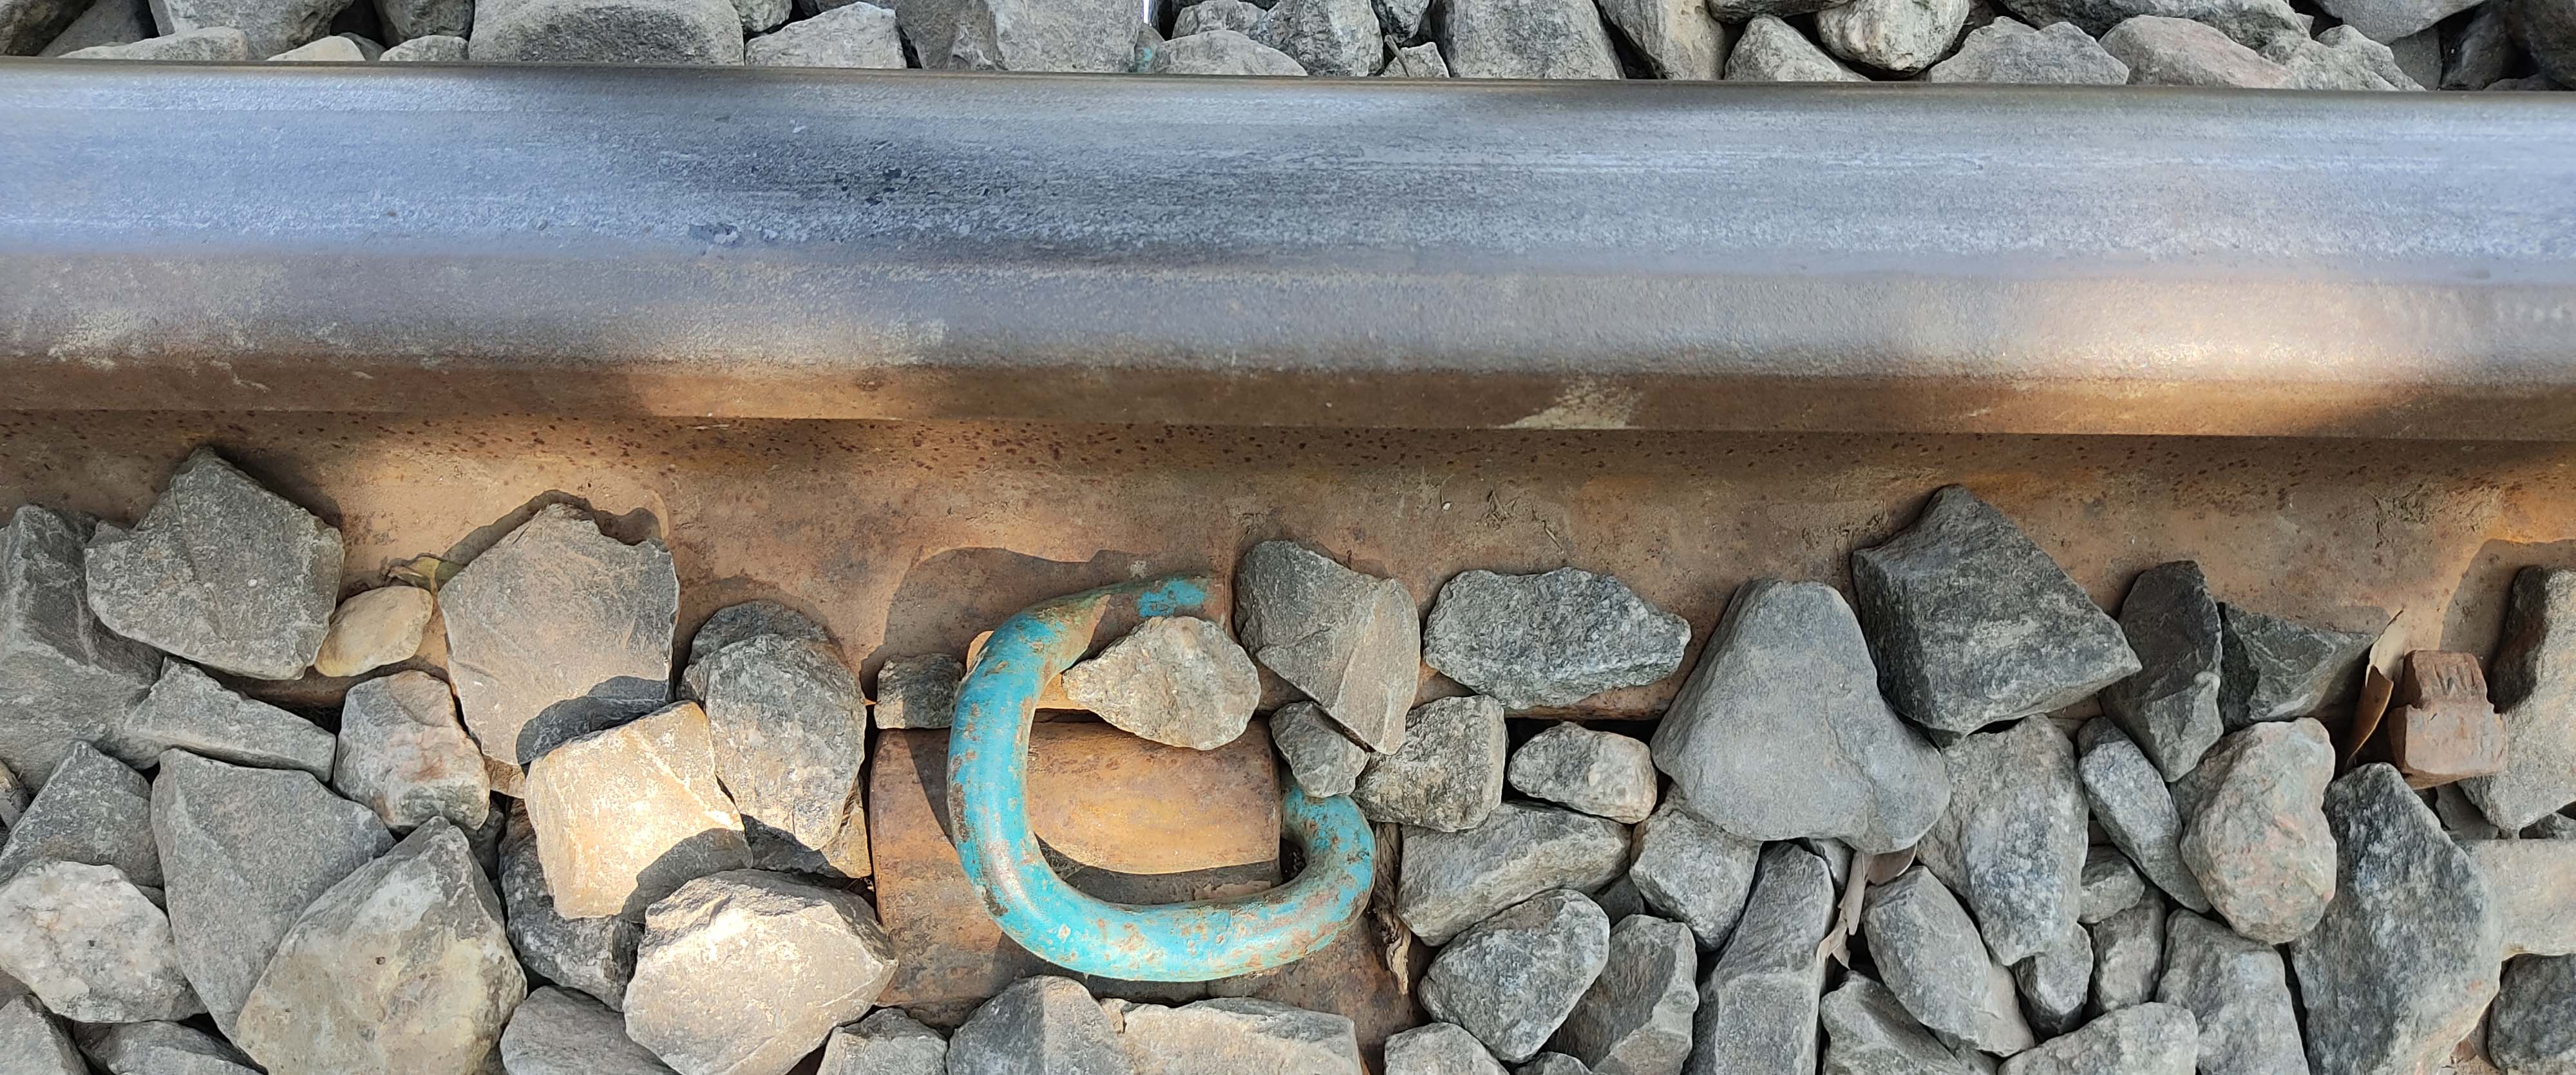error1: (904, 487, 1400, 1009)
